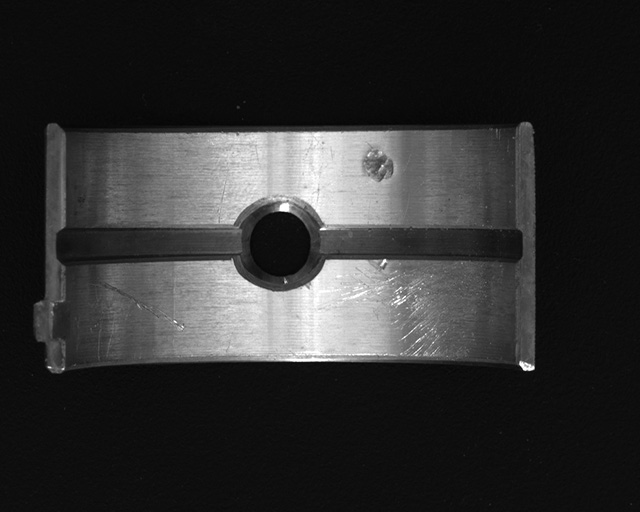bruise: (362, 144, 395, 185)
gap: (312, 224, 522, 266), (57, 225, 244, 264)
hole: (236, 197, 321, 288)
nick: (95, 277, 185, 333)
scratch: (317, 260, 509, 362)
